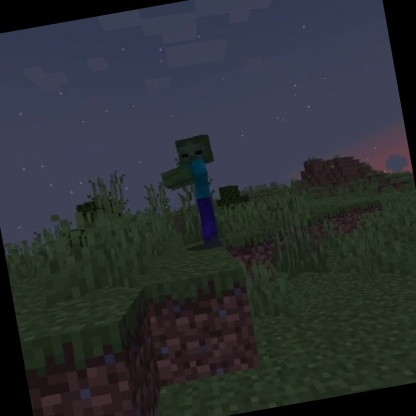zombie: (151, 130, 234, 259)
